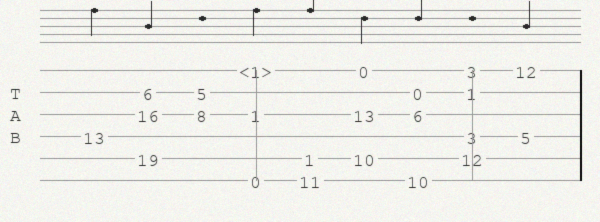0: (250, 173, 265, 188), (358, 63, 373, 78), (412, 85, 427, 100)
1: (250, 107, 265, 122), (304, 151, 319, 166), (466, 85, 481, 100)
10: (353, 151, 379, 166), (407, 173, 433, 188)
11: (299, 173, 325, 188)
12: (461, 151, 487, 166), (515, 63, 541, 78)
13: (83, 129, 109, 144), (353, 107, 379, 122)
16: (137, 107, 163, 122)
19: (137, 151, 163, 166)
3: (466, 129, 481, 144), (466, 63, 481, 78)
5: (196, 85, 211, 100), (520, 129, 535, 144)
6: (142, 85, 157, 100), (412, 107, 427, 122)
8: (196, 107, 211, 122)
harmonic: (239, 63, 276, 78)
